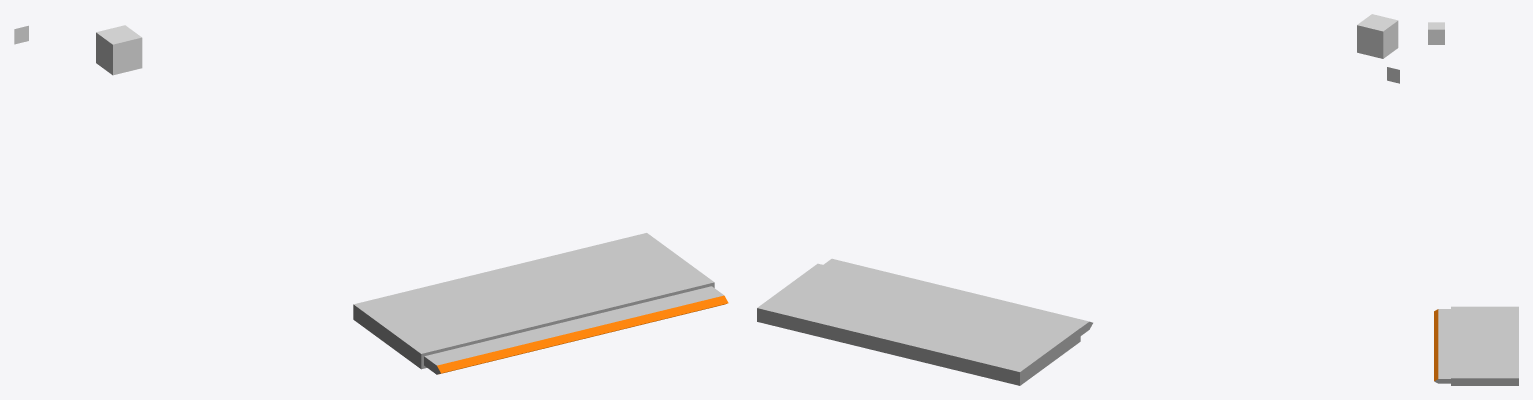
Rendered from testOrigin.glb.
The picture shows the model from 3 angles, left to right: view 1: azimuth 30°, elevation 25°; view 2: azimuth 150°, elevation 25°; view 3: azimuth 270°, elevation 25°; orthographic projection. The views are drawn at different scales.
Visible parts, largest first — view 1: _(Loose Entity), Cube.001; view 2: _(Loose Entity), Cube.001; view 3: _(Loose Entity), Cube.001.
Part boxes in pixels (x1,y1,x2,y2): _(Loose Entity): (14,25,728,374); Cube.001: (96,25,142,75); _(Loose Entity): (757,67,1399,385); Cube.001: (1357,14,1398,58); _(Loose Entity): (1434,306,1518,385); Cube.001: (1428,22,1444,44).
Bounding box in the file's own units: 46 × 27.5 × 10.71.
